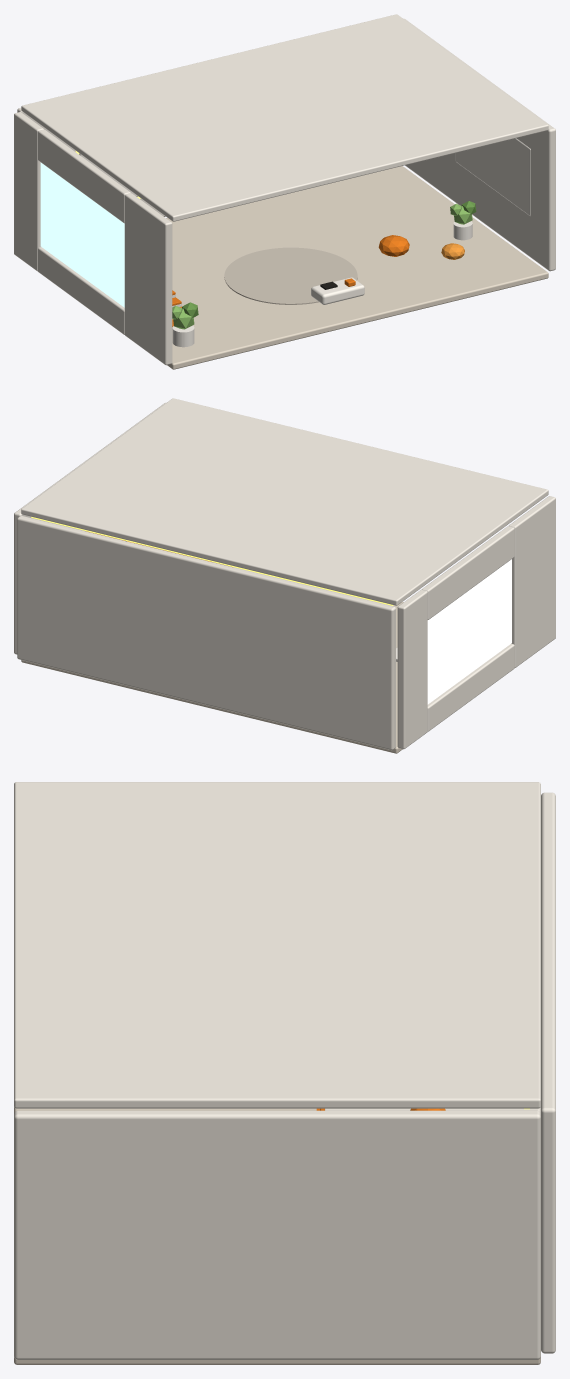
File: apeworks-room.glb
3 renders of one model, top to bottom at view 1: azimuth 30°, elevation 25°; view 2: azimuth 150°, elevation 25°; view 3: azimuth 270°, elevation 25°, orthographic. The views are drawn at different scales.
Visible parts, largest first — view 1: CEIL_SLAB, FLOOR, WALL_RIGHT, WINDOW_SKY, WALL_L_FRONT, RUG, WALL_L_BACK, RWALL_PANEL, WALL_L_HEAD, WALL_L_SILL, COFFEE_TABLE, POUF; view 2: CEIL_SLAB, WALL_BACK, WINDOW_SKY, WALL_L_FRONT, WALL_L_BACK, WALL_L_HEAD, WALL_L_SILL, FLOOR, WALL_RIGHT, CEIL_RIM_BACK; view 3: CEIL_SLAB, WALL_RIGHT, WALL_BACK, FLOOR.
Part boxes in pixels (bbox=[...]): CEIL_SLAB: bbox=[21, 14, 548, 221]; FLOOR: bbox=[166, 166, 548, 369]; WALL_RIGHT: bbox=[403, 18, 555, 271]; WINDOW_SKY: bbox=[40, 162, 124, 307]; WALL_L_FRONT: bbox=[124, 193, 172, 365]; RUG: bbox=[224, 247, 357, 304]; WALL_L_BACK: bbox=[14, 112, 43, 271]; RWALL_PANEL: bbox=[455, 138, 530, 216]; WALL_L_HEAD: bbox=[38, 129, 130, 223]; WALL_L_SILL: bbox=[38, 247, 124, 334]; COFFEE_TABLE: bbox=[311, 277, 364, 304]; POUF: bbox=[378, 235, 409, 256]; CEIL_SLAB: bbox=[21, 398, 548, 605]; WALL_BACK: bbox=[17, 515, 395, 750]; WINDOW_SKY: bbox=[427, 559, 511, 704]; WALL_L_FRONT: bbox=[509, 496, 555, 667]; WALL_L_BACK: bbox=[397, 590, 427, 749]; WALL_L_HEAD: bbox=[421, 526, 514, 619]; WALL_L_SILL: bbox=[427, 643, 514, 731]; FLOOR: bbox=[21, 567, 403, 753]; WALL_RIGHT: bbox=[14, 402, 166, 654]; CEIL_RIM_BACK: bbox=[31, 517, 393, 605]; CEIL_SLAB: bbox=[14, 782, 540, 1108]; WALL_RIGHT: bbox=[14, 1110, 540, 1359]; WALL_BACK: bbox=[541, 792, 555, 1353]; FLOOR: bbox=[14, 1107, 540, 1364].
Size of the model in its own units: 15.6 by 5.86 by 10.8.
